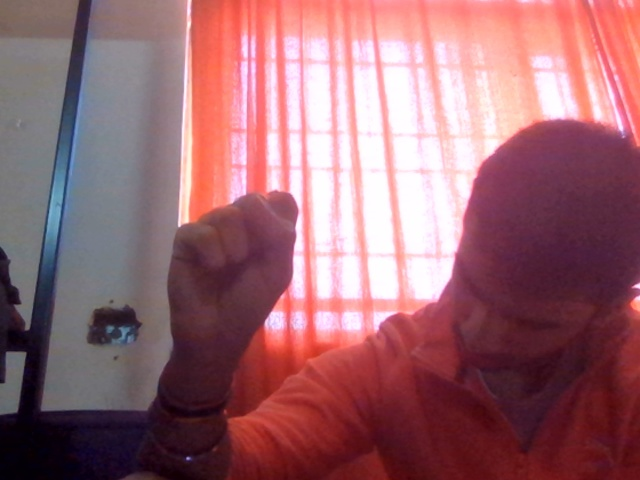S: (145, 161, 347, 412)
